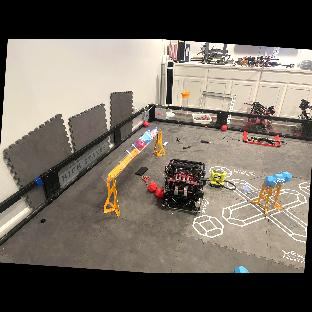Goal: (97, 120, 167, 190)
Loader: (178, 89, 190, 130)
Parking-R: (243, 131, 281, 148)
Robot: (161, 156, 206, 215), (243, 101, 275, 132), (290, 95, 312, 136)
V5_BLUE: (230, 264, 252, 273)
V5_RED: (154, 185, 166, 199), (146, 180, 158, 193), (221, 124, 228, 132), (143, 120, 150, 128)
blueingoal: (281, 168, 295, 184), (264, 173, 276, 186), (275, 172, 284, 183), (145, 132, 152, 140), (142, 136, 149, 142)
redingoal: (136, 139, 146, 148)
